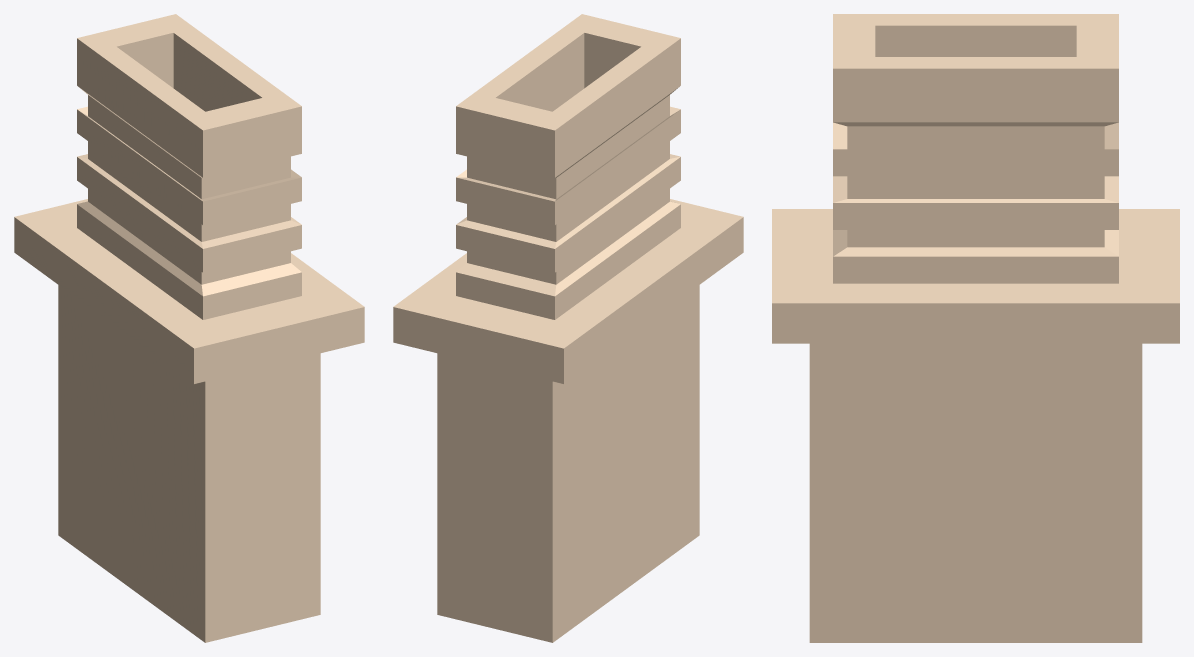
File: Shimney01.fbx
3 views of the same model, side by side, from view 1: azimuth 30°, elevation 25°; view 2: azimuth 150°, elevation 25°; view 3: azimuth 270°, elevation 25° (orthographic). The views are drawn at different scales.
Parts seen in each view (by area): view 1: Shimney01; view 2: Shimney01; view 3: Shimney01.
Boxes of the visible parts, x1=… form: Shimney01: x1=14, y1=14, x2=364, y2=642; Shimney01: x1=393, y1=14, x2=743, y2=642; Shimney01: x1=772, y1=14, x2=1179, y2=642.
Size of the model in its own units: 68.4 by 193 by 125.
